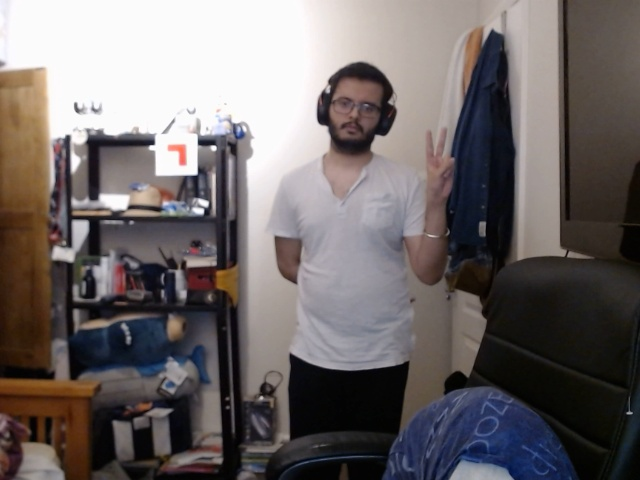Peace: (415, 125, 471, 201)
